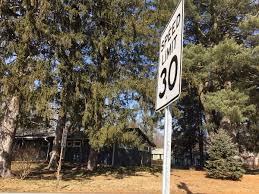speedLimit30: (153, 1, 183, 111)
